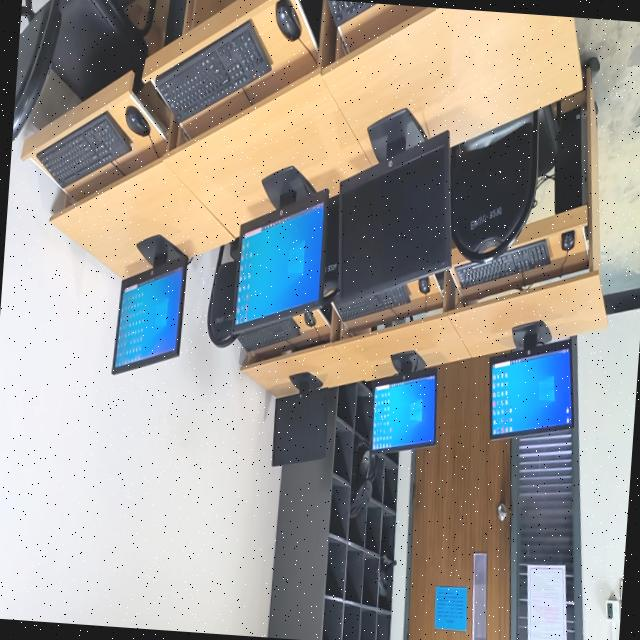Chair: (12, 0, 155, 140), (450, 105, 559, 262), (207, 245, 236, 347), (324, 196, 339, 298)
Cpu: (554, 105, 588, 214)
Keyboard: (155, 20, 270, 122), (36, 111, 131, 188), (455, 239, 550, 288), (333, 283, 410, 321), (237, 317, 300, 352), (326, 0, 375, 27)
Monitor: (337, 109, 451, 304), (232, 166, 328, 333), (111, 235, 188, 374), (489, 322, 572, 439), (370, 351, 436, 453), (271, 373, 328, 467)
Mouse: (275, 0, 300, 40), (125, 106, 150, 137), (561, 231, 574, 251), (418, 277, 429, 295), (303, 311, 315, 327)
